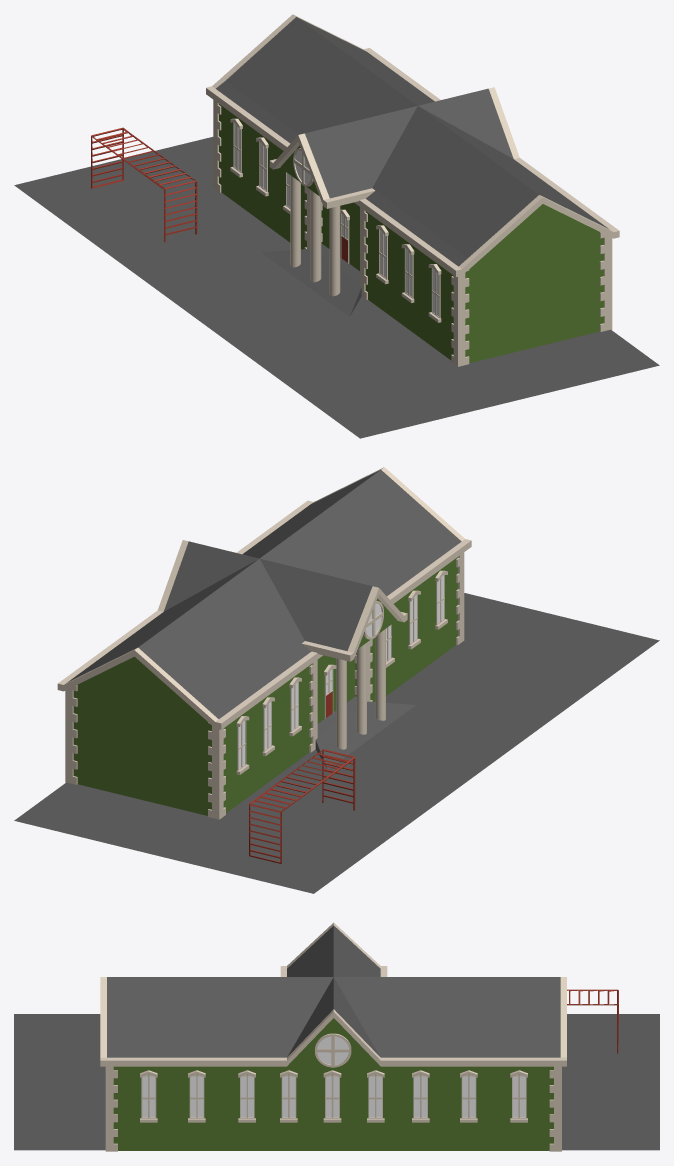
Rendered from 2x1_School.col.glb.
3 views of the same model, one above another, from view 1: azimuth 30°, elevation 25°; view 2: azimuth 150°, elevation 25°; view 3: azimuth 270°, elevation 25° (orthographic). The views are drawn at different scales.
Parts seen in each view (by area): view 1: 2x1_School.col.004; view 2: 2x1_School.col.004; view 3: 2x1_School.col.004.
Boxes of the visible parts, x1,y1,x2,y2 form: 2x1_School.col.004: (14,14,659,438); 2x1_School.col.004: (14,467,659,893); 2x1_School.col.004: (14,922,659,1151).
Bounding box in the file's own units: 20.4 × 9.74 × 40.
